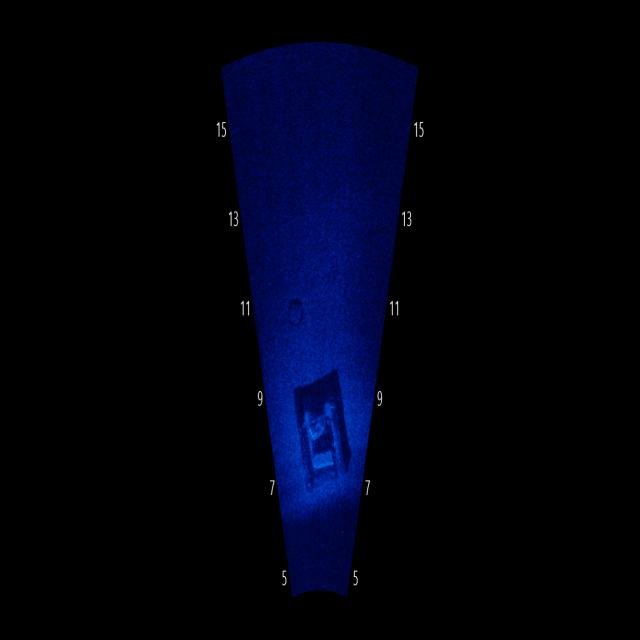square: (284, 366, 358, 494)
